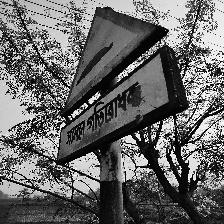Speed-breaker: (57, 6, 188, 167)
